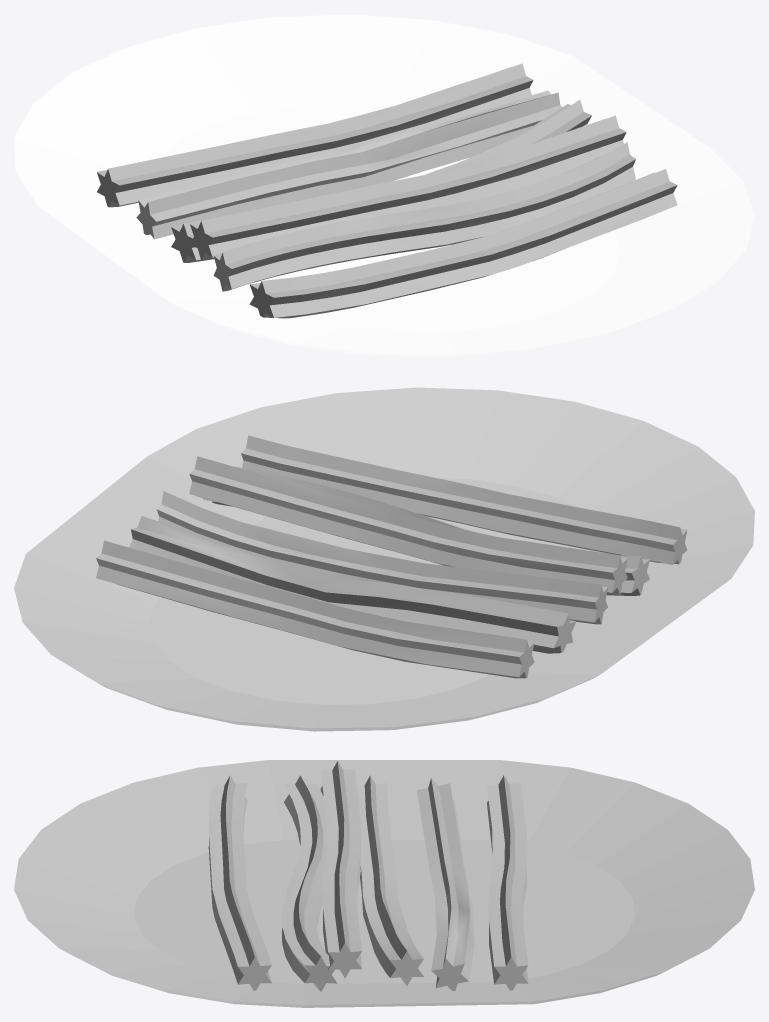
Rendered from Churros.FBX.
3 renders of one model, top to bottom at view 1: azimuth 30°, elevation 25°; view 2: azimuth 150°, elevation 25°; view 3: azimuth 270°, elevation 25°, orthographic. The views are drawn at different scales.
Visible parts, largest first — view 1: churros; view 2: churros; view 3: churros.
Part boxes in pixels (x1,y1,x2,y2): churros: [14, 14, 754, 358]; churros: [14, 387, 754, 731]; churros: [14, 760, 754, 1007].
Bounding box in the file's own units: 29.49 × 4.7 × 37.65.
